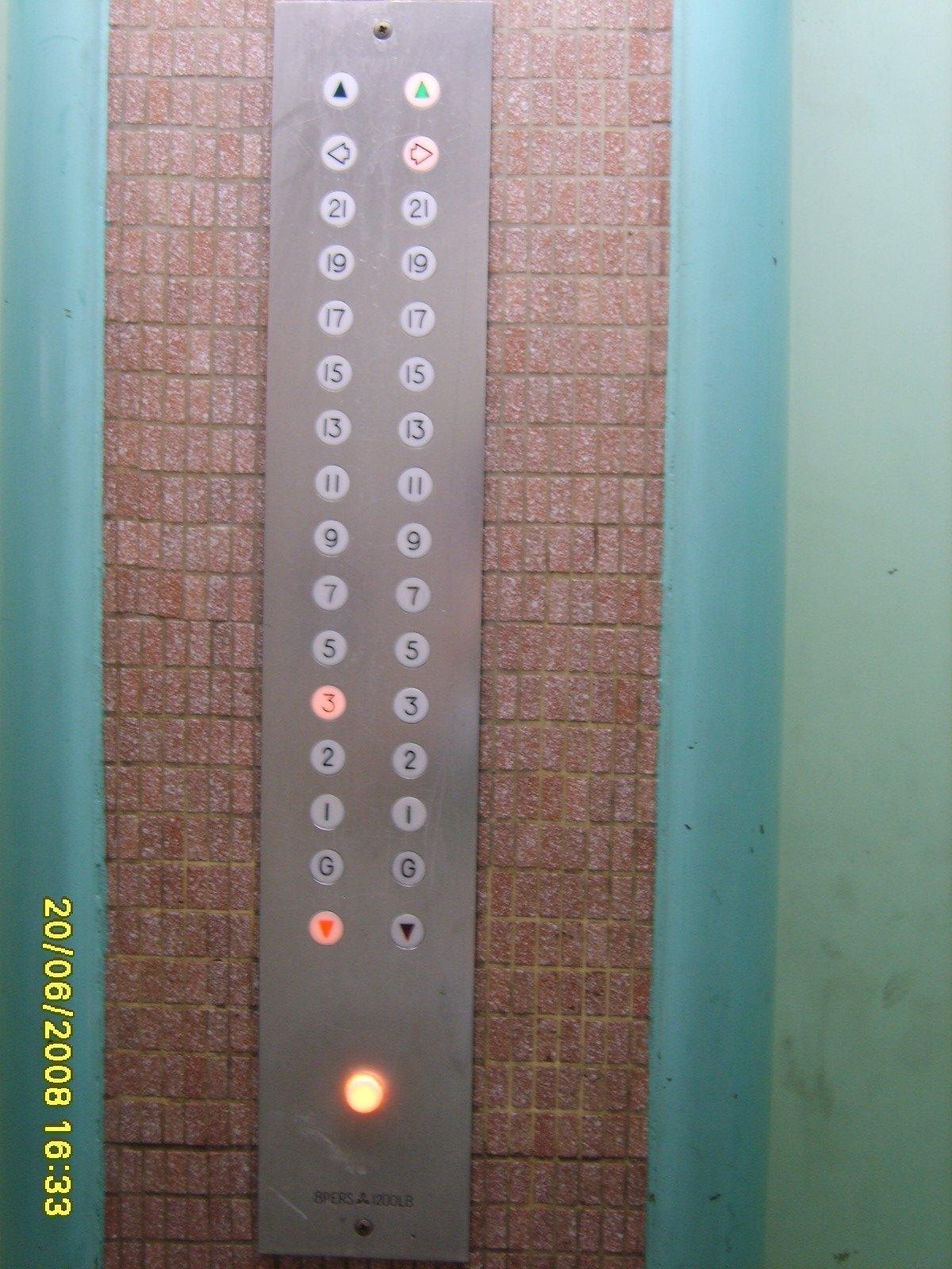1: (387, 792, 431, 836), (304, 788, 347, 833)
11: (310, 459, 354, 504), (393, 462, 436, 507)
13: (310, 405, 354, 450), (393, 407, 437, 451)
15: (393, 351, 437, 395), (313, 351, 356, 395)
17: (394, 296, 438, 340), (313, 295, 356, 339)
19: (395, 240, 439, 285), (313, 240, 357, 284)
2: (305, 733, 349, 777), (387, 738, 431, 782)
21: (315, 185, 359, 229), (397, 185, 440, 229)
3: (305, 681, 349, 725), (389, 682, 432, 727)
5: (307, 625, 351, 669), (390, 626, 433, 670)
7: (391, 573, 435, 617), (308, 569, 351, 614)
9: (392, 516, 436, 561), (309, 515, 352, 559)
G: (386, 846, 429, 891), (304, 844, 347, 888)
down: (385, 909, 428, 953), (304, 906, 347, 950)
unknown: (340, 1071, 386, 1116), (398, 130, 442, 174), (317, 128, 360, 173)
up: (318, 68, 362, 113), (399, 67, 443, 112)
